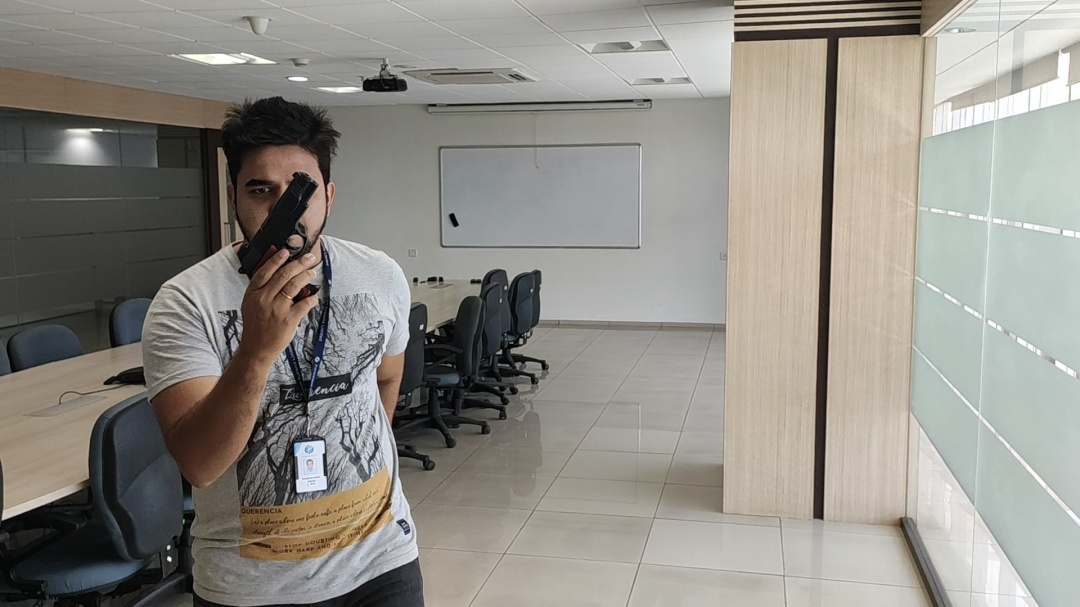gun: (238, 171, 319, 254)
